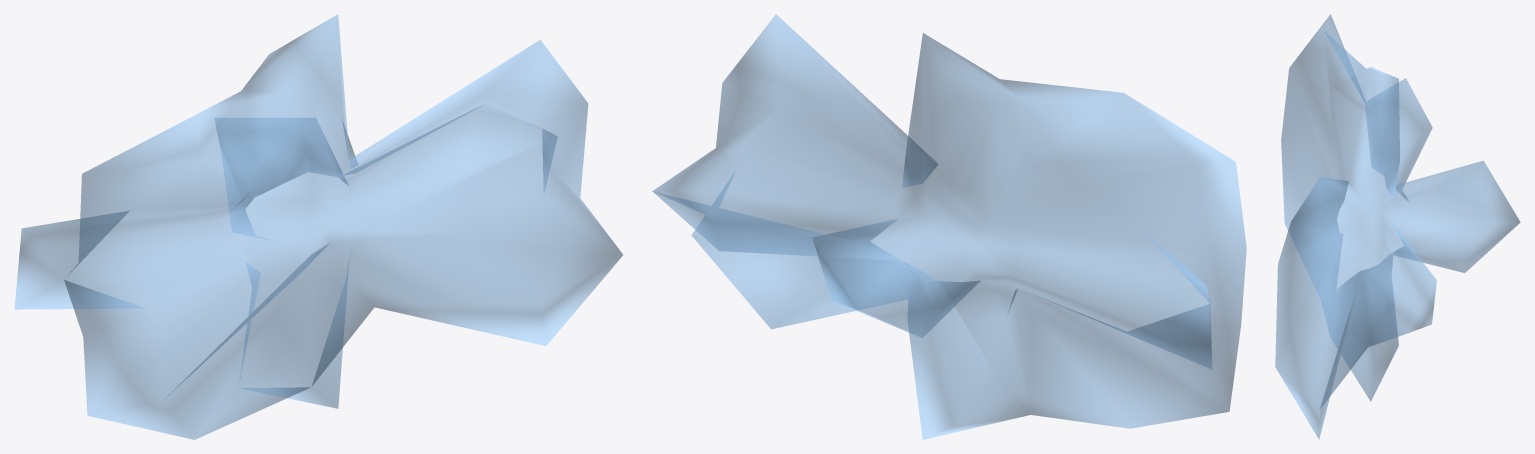
File: trefinery_shield.gltf
The picture shows the model from 3 angles, left to right: view 1: azimuth 30°, elevation 25°; view 2: azimuth 150°, elevation 25°; view 3: azimuth 270°, elevation 25°; orthographic projection. The views are drawn at different scales.
Parts seen in each view (by area): view 1: trefinery.shield; view 2: trefinery.shield; view 3: trefinery.shield.
Boxes of the visible parts, x1,y1,x2,y2 form: trefinery.shield: (14, 14, 622, 439); trefinery.shield: (652, 14, 1246, 439); trefinery.shield: (1275, 14, 1520, 439).
Size of the model in its own units: 32.74 by 22.17 by 14.73.
